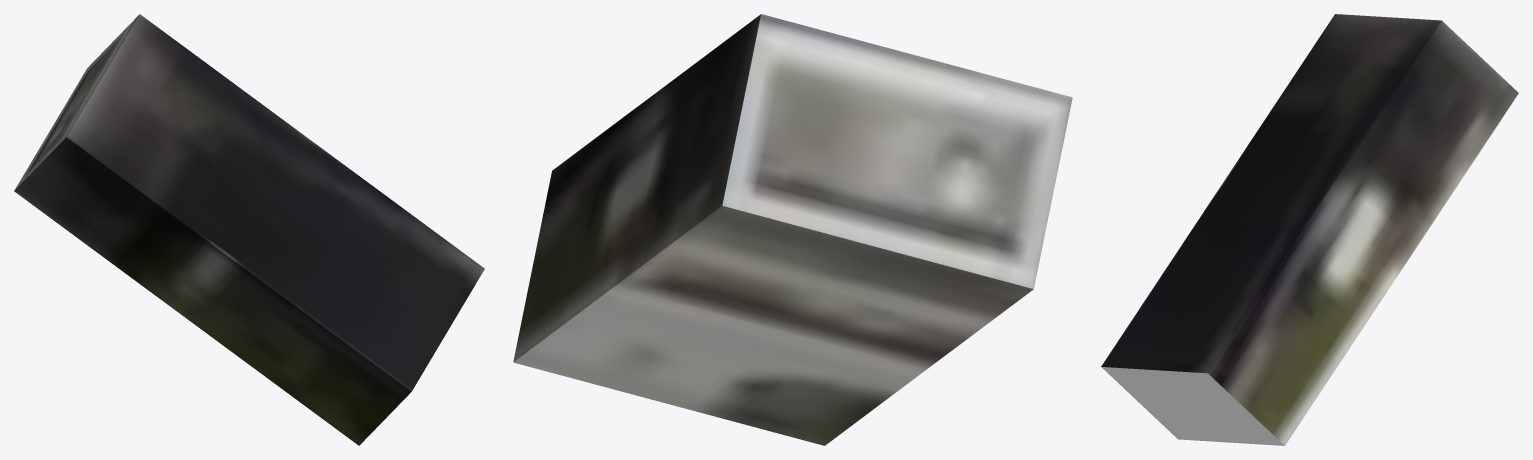
The model's file is 39539_bldg_Building.glb.
The picture shows the model from 3 angles, left to right: view 1: azimuth 30°, elevation 25°; view 2: azimuth 150°, elevation 25°; view 3: azimuth 270°, elevation 25°; orthographic projection. The views are drawn at different scales.
Bounding box in the file's own units: 11.51 × 10.66 × 10.84.
2 materials, 1 textured.
